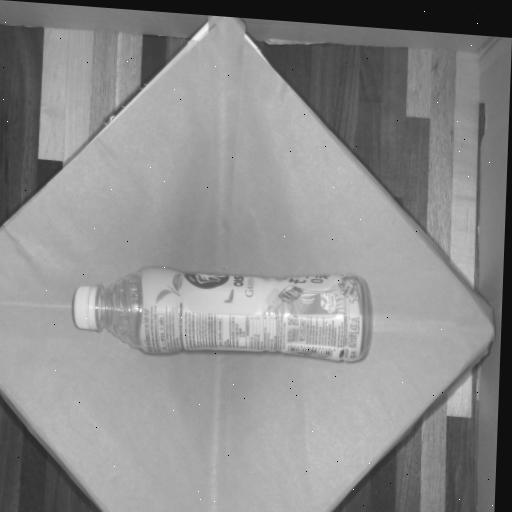bottle: (70, 259, 375, 371)
